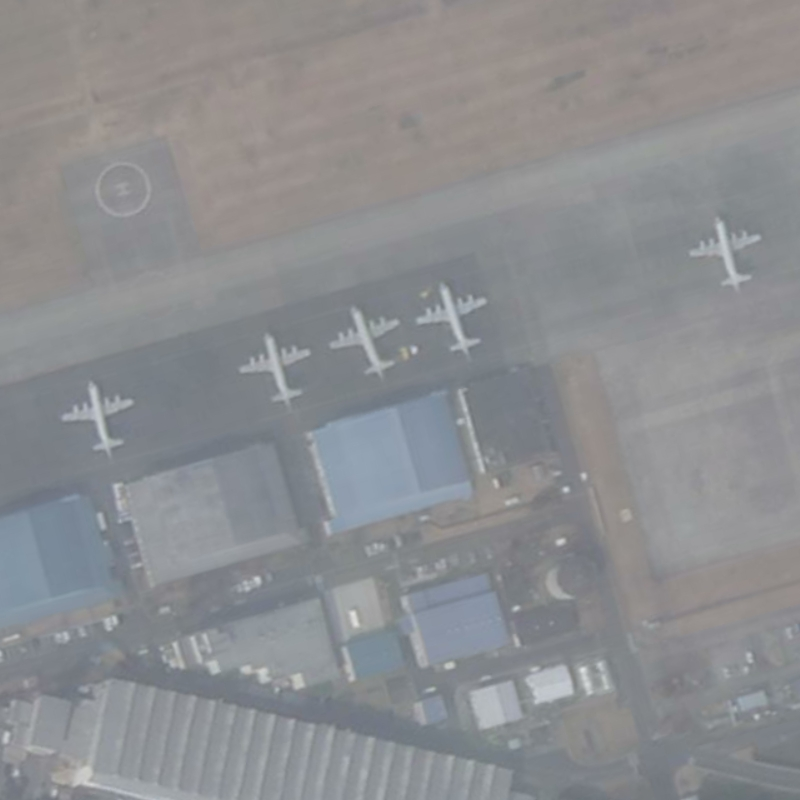A9: (679, 205, 773, 300), (411, 272, 507, 365), (53, 374, 152, 461), (234, 321, 319, 415), (326, 295, 410, 388)
